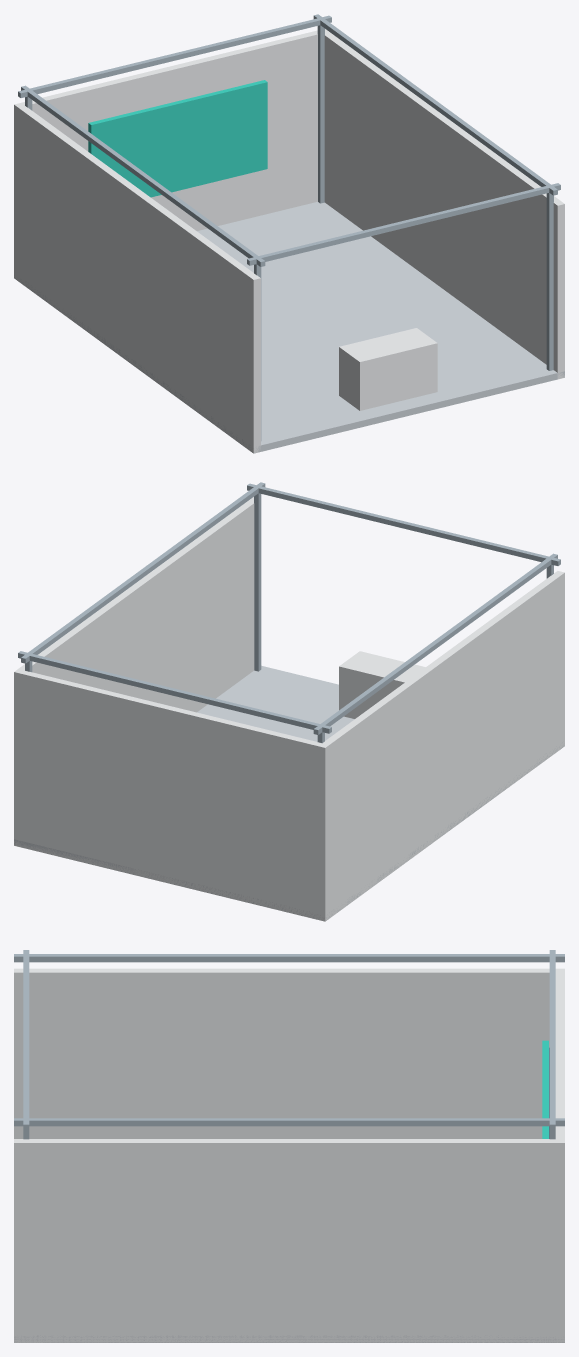
The picture shows the model from 3 angles, top to bottom: view 1: azimuth 30°, elevation 25°; view 2: azimuth 150°, elevation 25°; view 3: azimuth 270°, elevation 25°; orthographic projection. The views are drawn at different scales.
Visible parts, largest first — view 1: Exhibition Booth Concept; view 2: Exhibition Booth Concept; view 3: Exhibition Booth Concept.
Boxes of the visible parts, x1,y1,x2,y2 form: Exhibition Booth Concept: (14,14,564,453); Exhibition Booth Concept: (14,482,564,921); Exhibition Booth Concept: (14,950,564,1342).
Bounding box in the file's own units: 6 × 3.49 × 8.
